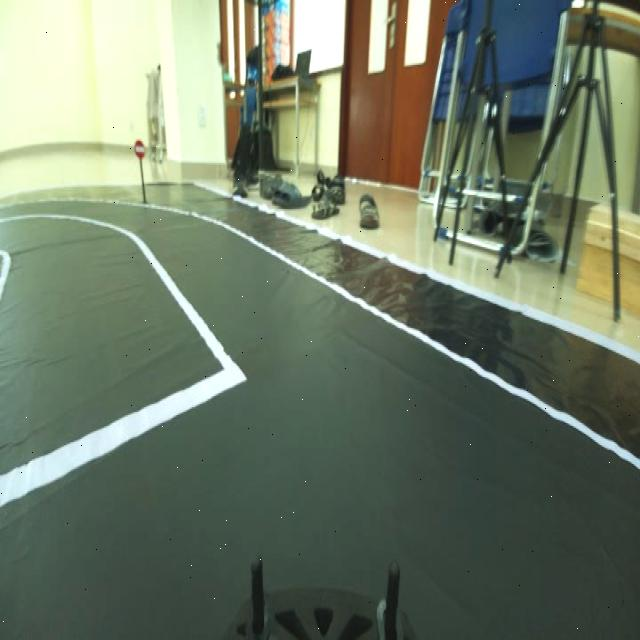no_entry: (134, 129, 147, 161)
